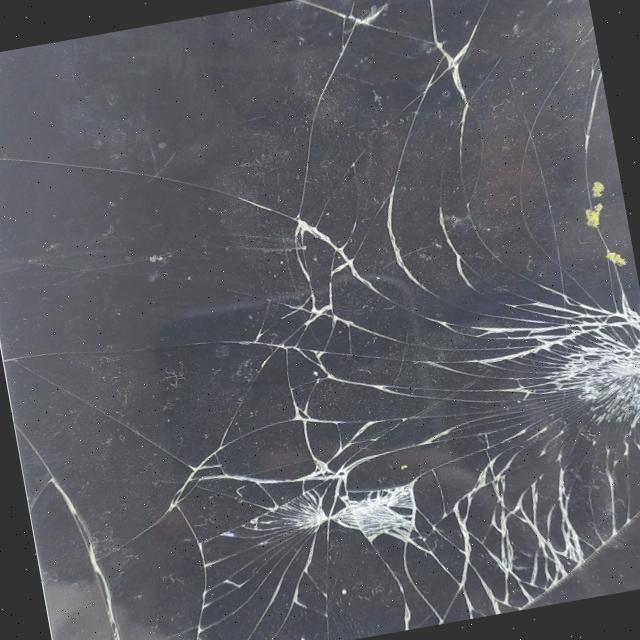Crack: (178, 1, 583, 478), (186, 454, 640, 608), (508, 274, 640, 460)
